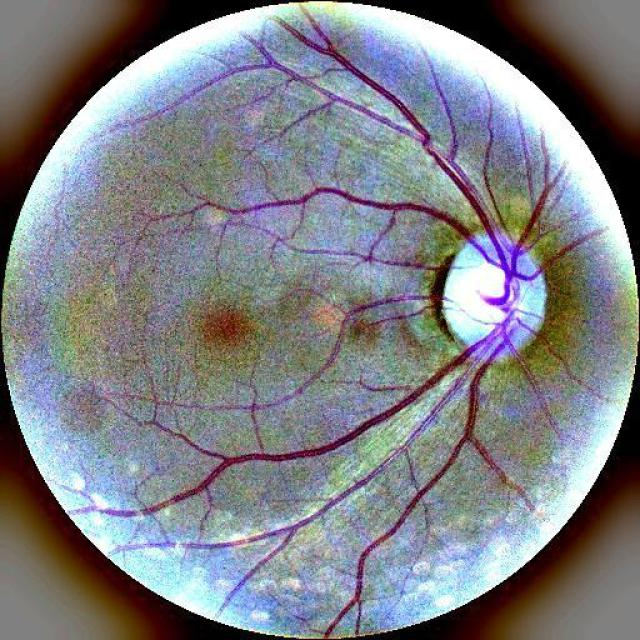Macula: (198, 308, 255, 351)
Nerves: (159, 30, 605, 296), (71, 312, 505, 522), (321, 344, 533, 630)
Optic Disk: (441, 236, 546, 358)
